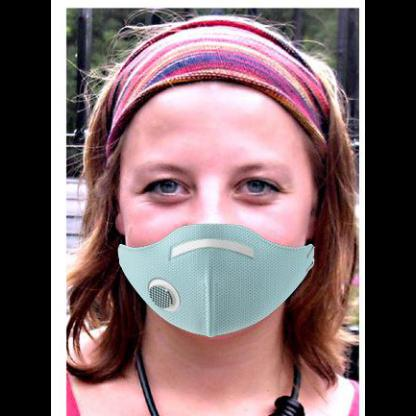FFP Mask: (92, 76, 330, 338)
